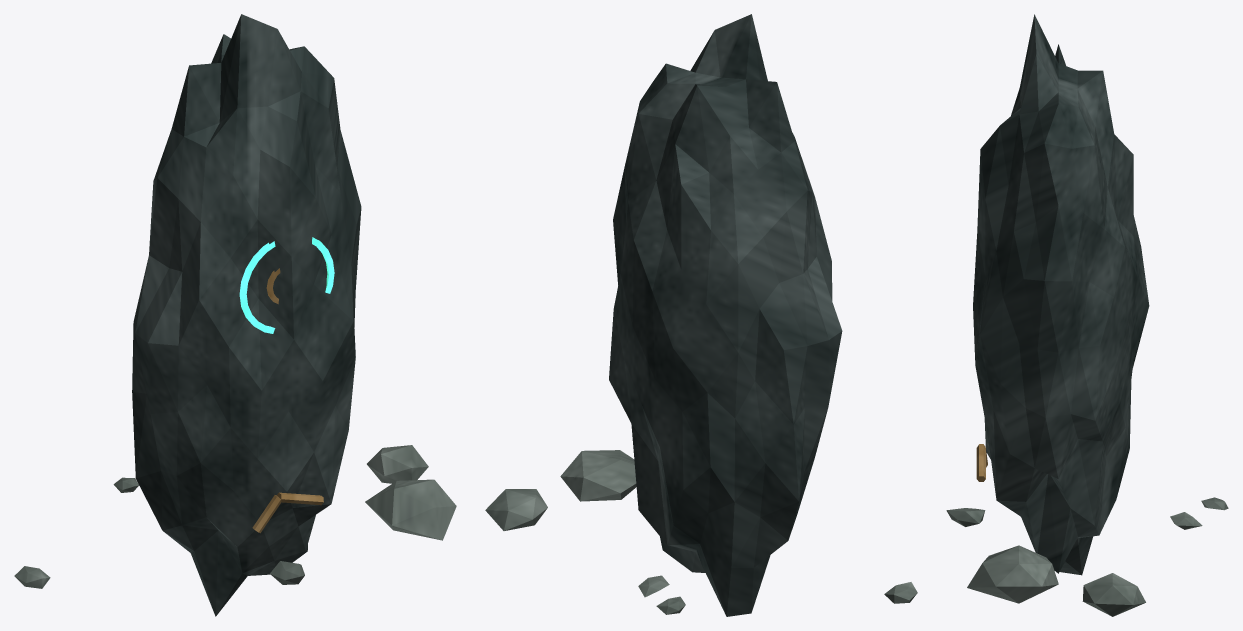
File: 0674_waystone_24.glb
3 renders of one model, left to right at view 1: azimuth 30°, elevation 25°; view 2: azimuth 150°, elevation 25°; view 3: azimuth 270°, elevation 25°, orthographic. The views are drawn at different scales.
Parts seen in each view (by area): view 1: stone_dark, stone, glow, brass; view 2: stone_dark, stone; view 3: stone_dark, stone.
Boxes of the visible parts, <box> form: stone_dark: <box>132,14,361,616</box>; stone: <box>14,445,456,588</box>; glow: <box>239,237,334,333</box>; brass: <box>252,268,323,533</box>; stone_dark: <box>609,14,842,616</box>; stone: <box>485,450,917,614</box>; stone_dark: <box>973,14,1149,575</box>; stone: <box>946,497,1228,616</box>.
Bounding box in the file's own units: 1.97 × 2.74 × 1.25.
Materials: 4 (4 with a texture image).
